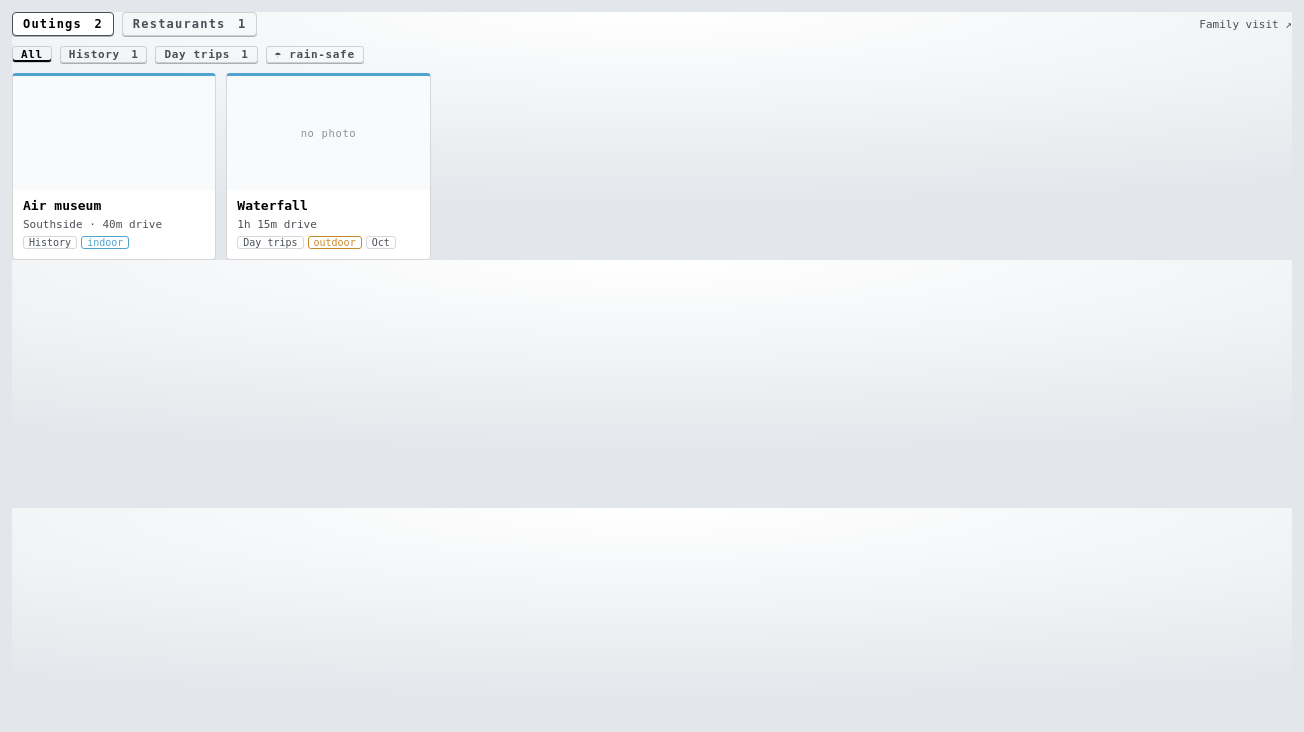
Test: BankTiles › filters by group chip and the rain-safe toggle
Click the button "Day trips 1": (206,54) [155,46,258,63]
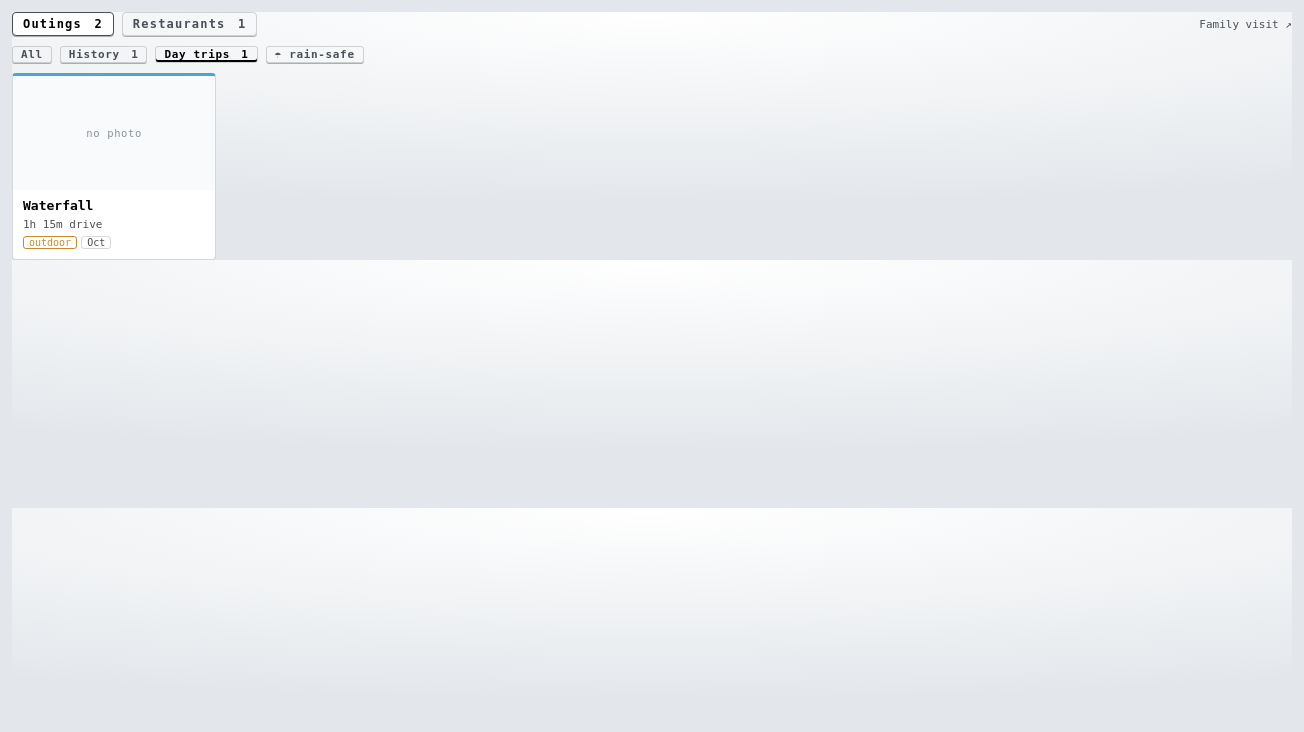
Check: the text "Waterfall" is shown, box [23,198,94,213]
Check: the button "Air museum" is gone
Click the button "☂ rain-safe": (315,54) [266,46,364,63]
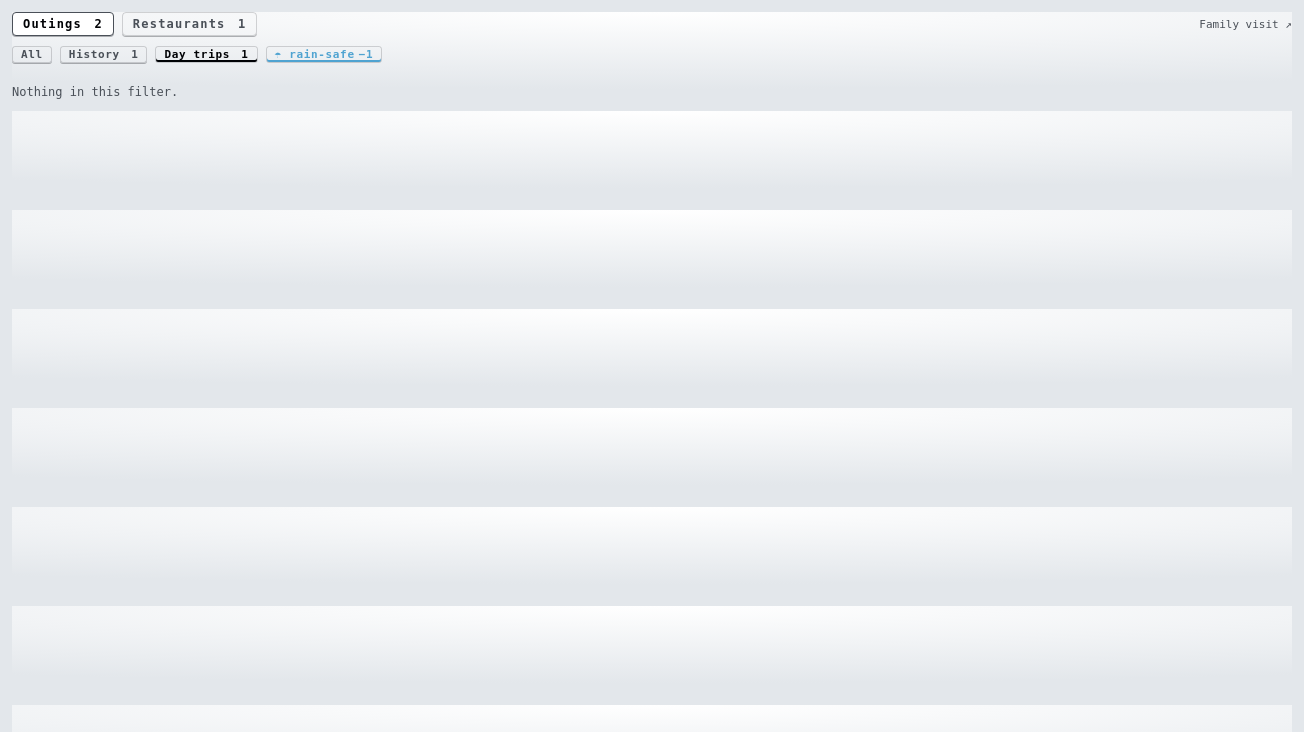
Check: the button "Waterfall" is gone
Check: the text "Nothing in this filter." is shown, box [12,85,178,99]
